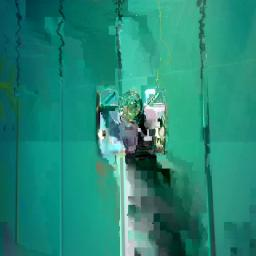front: (96, 88, 170, 157)
